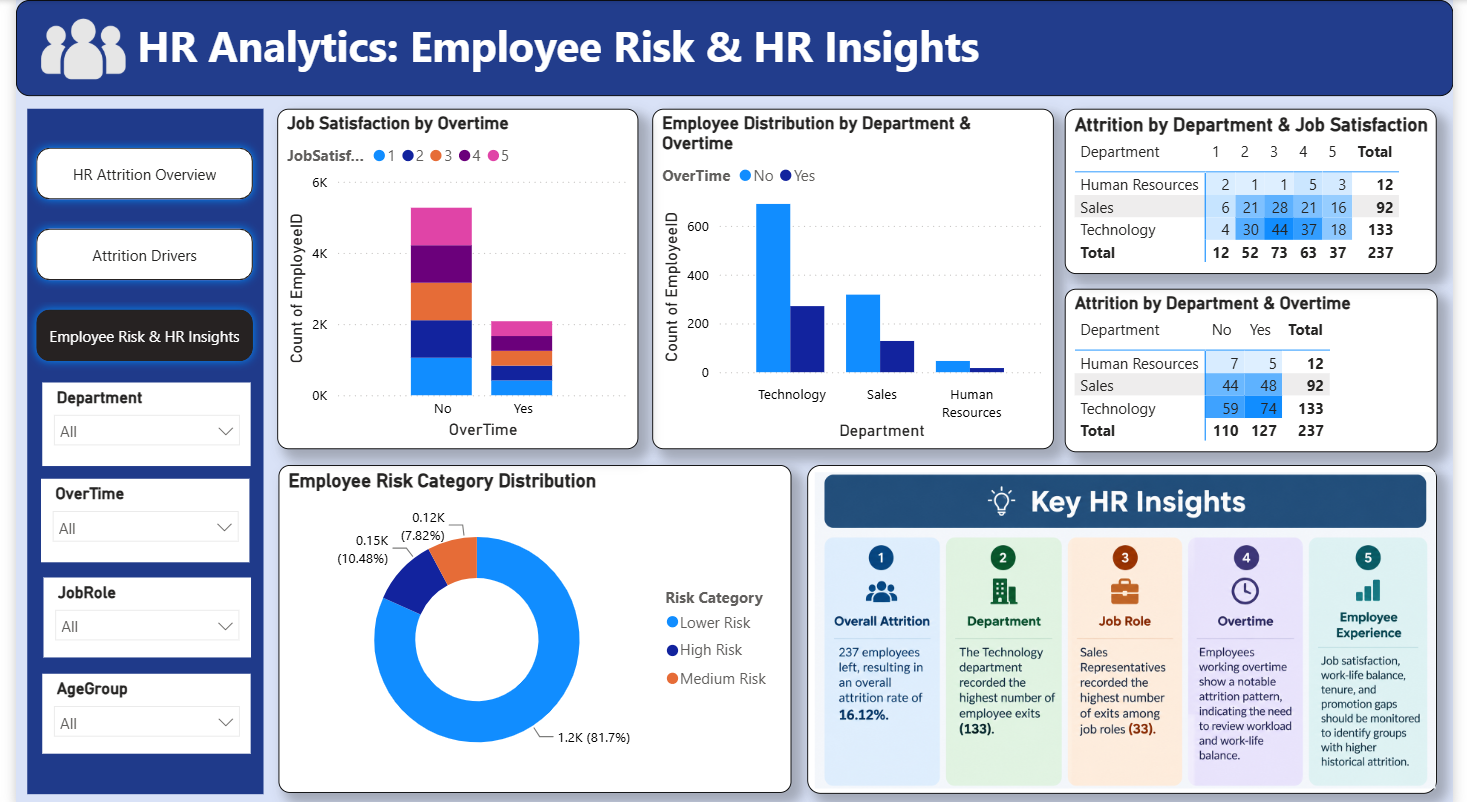

The page's visual inventory and layout, read from the dashboard file:
{"tool":"powerbi","page":{"name":"Employee Risk & HR Insights","canvas":[1280,720],"ordinal":2},"visuals":[{"type":"textbox","box":[0,0,1280,85.7],"z":0},{"type":"textbox","box":[705,414,561,293],"z":0,"group":"g1"},{"type":"image","box":[0,5.7,120,75.7],"z":1000},{"type":"image","box":[712,403,553,317],"z":1000,"group":"g1"},{"type":"textbox","box":[10,97.1,210,610],"z":2000},{"type":"clusteredColumnChart","title":"Employee Distribution by Department & Overtime","fields":{"Category":["employee.Department"],"Y":["CountNonNull(employee.EmployeeID)"],"Series":["employee.OverTime"]},"box":[566.7,96.7,357.8,303.3],"z":3000},{"type":"pivotTable","title":"Attrition by Department & Overtime","fields":{"Rows":["employee.Department"],"Columns":["employee.OverTime"],"Values":["HR Measures.Employees Left"]},"box":[933.8,257,331.8,146],"z":4000},{"type":"donutChart","title":"Employee Risk Category Distribution","fields":{"Category":["employee.Risk Category"],"Y":["CountNonNull(employee.EmployeeID)"]},"box":[233.3,414.4,456.7,292.2],"z":5000},{"type":"columnChart","title":"Job Satisfaction by Overtime","fields":{"Category":["employee.OverTime"],"Y":["CountNonNull(employee.EmployeeID)"],"Series":["performance_rating.JobSatisfaction"]},"box":[232.9,97.1,321.4,302.9],"z":6000},{"type":"pivotTable","title":"Attrition by Department & Job Satisfaction","fields":{"Rows":["employee.Department"],"Values":["HR Measures.Employees Left by Job Satisfaction"],"Columns":["performance_rating.JobSatisfaction"]},"box":[934.3,97.1,331.4,147.1],"z":7000},{"type":"group","id":"g1","title":"Group 1","box":[22.8,403,1243.2,317],"z":8000},{"type":"slicer","fields":{"Values":["employee.OverTime"]},"box":[22.8,425.9,185.8,74.8],"z":8005,"group":"g1"},{"type":"pageNavigator","box":[9.7,123.1,209.9,208.7],"z":9000},{"type":"slicer","fields":{"Values":["employee.Department"]},"box":[22.9,340.2,185.8,74.8],"z":10000},{"type":"slicer","fields":{"Values":["employee.JobRole"]},"box":[24.1,513.9,184.6,71.2],"z":11000},{"type":"slicer","fields":{"Values":["employee.AgeGroup"]},"box":[22.9,599.6,185.8,71.2],"z":12000}]}

Visuals, with their boxes in screenshot pixels (x1, y1, x2, y2), scaled from the page's 1280x720 canvas onto the 1467x802 screenshot:
textbox: <region>0, 0, 1466, 95</region>
textbox: <region>808, 461, 1451, 788</region>
image: <region>0, 6, 138, 91</region>
image: <region>816, 449, 1450, 801</region>
textbox: <region>11, 108, 252, 788</region>
"Employee Distribution by Department & Overtime" clusteredColumnChart: <region>649, 108, 1060, 446</region>
"Attrition by Department & Overtime" pivotTable: <region>1070, 286, 1450, 449</region>
"Employee Risk Category Distribution" donutChart: <region>267, 462, 791, 787</region>
"Job Satisfaction by Overtime" columnChart: <region>267, 108, 635, 446</region>
"Attrition by Department & Job Satisfaction" pivotTable: <region>1071, 108, 1451, 272</region>
"Group 1" group: <region>26, 449, 1451, 801</region>
slicer - employee.OverTime: <region>26, 474, 239, 558</region>
pageNavigator: <region>11, 137, 252, 370</region>
slicer - employee.Department: <region>26, 379, 239, 462</region>
slicer - employee.JobRole: <region>28, 572, 239, 652</region>
slicer - employee.AgeGroup: <region>26, 668, 239, 747</region>
